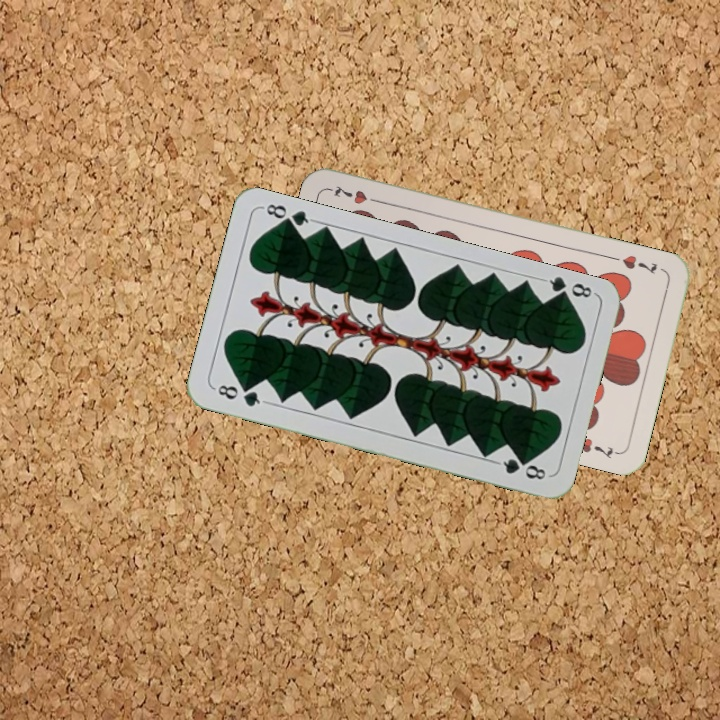G8: (539, 273, 597, 305), (210, 380, 269, 410)
H7: (607, 251, 660, 277)
